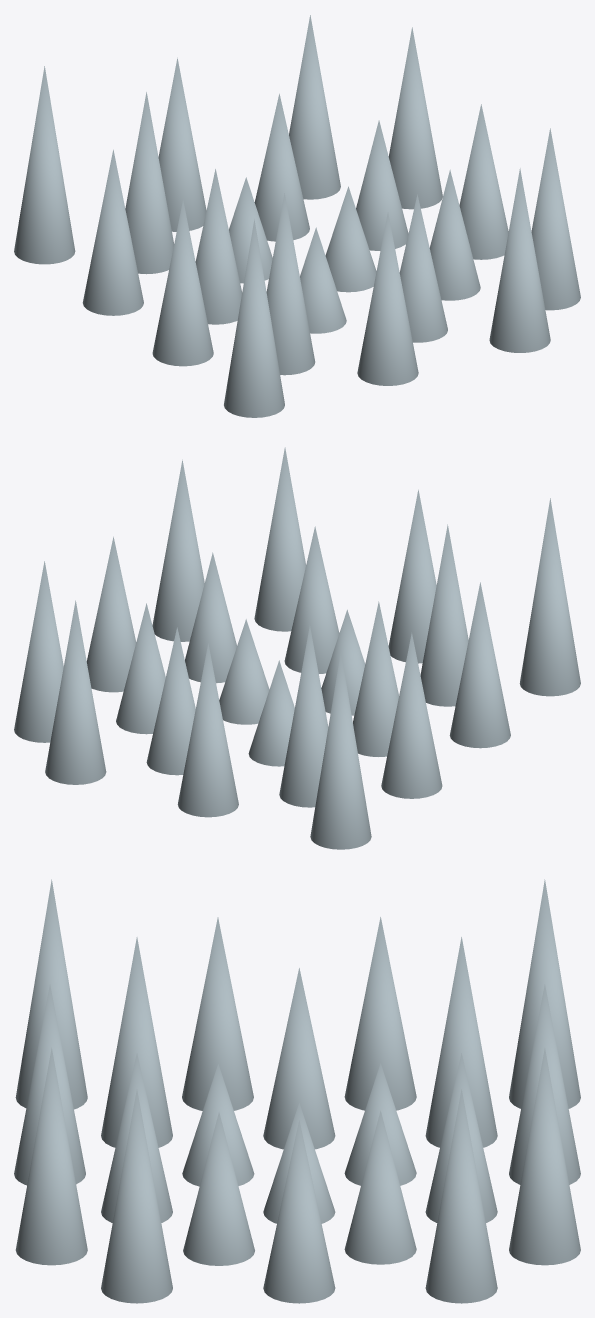
Rendered from spikes 1.fbx.
The picture shows the model from 3 angles, top to bottom: view 1: azimuth 30°, elevation 25°; view 2: azimuth 150°, elevation 25°; view 3: azimuth 270°, elevation 25°; orthographic projection. The views are drawn at different scales.
Visible parts, largest first — view 1: tileSpikes_large; view 2: tileSpikes_large; view 3: tileSpikes_large.
Part boxes in pixels (x1=…): tileSpikes_large: x1=14, y1=15, x2=580, y2=417; tileSpikes_large: x1=14, y1=447, x2=580, y2=849; tileSpikes_large: x1=14, y1=879, x2=580, y2=1303.
Size of the model in its own units: 291 by 134 by 314.
